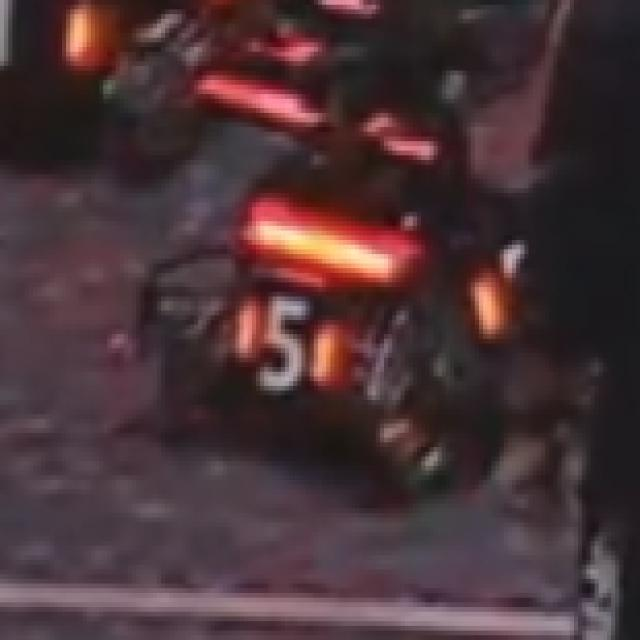R5: (227, 282, 330, 396)
